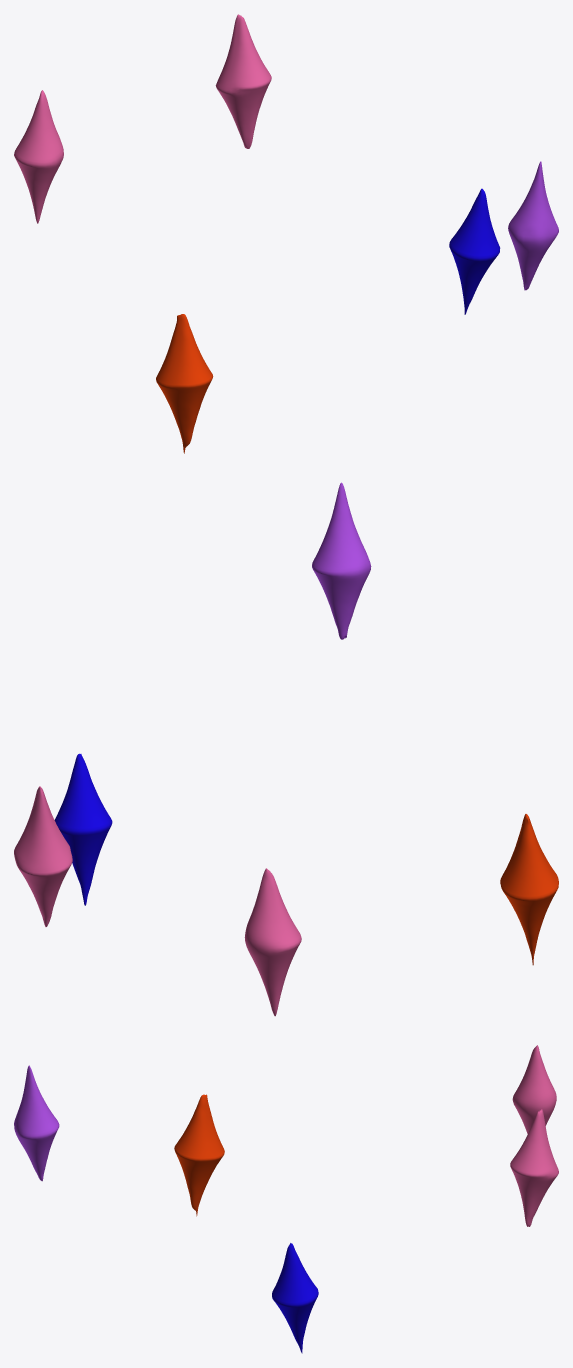
Rendered from diamonds.glb.
The picture shows the model from 3 angles, top to bottom: view 1: azimuth 30°, elevation 25°; view 2: azimuth 150°, elevation 25°; view 3: azimuth 270°, elevation 25°; orthographic projection. The views are drawn at different scales.
Parts seen in each view (by area): view 1: Retopo_inst_10.002; view 2: Retopo_inst_10.002; view 3: Retopo_inst_10.002.
Part boxes in pixels (x1,y1,x2,y2): Retopo_inst_10.002: (14,14,558,453); Retopo_inst_10.002: (14,482,558,1016); Retopo_inst_10.002: (14,1045,558,1353).
Bounding box in the file's own units: 65.74 × 47.82 × 88.48.
